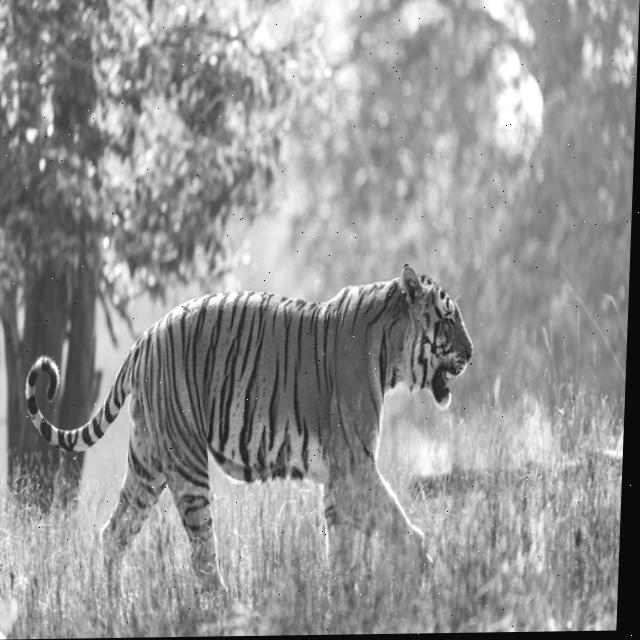Tiger: (15, 261, 478, 597)
